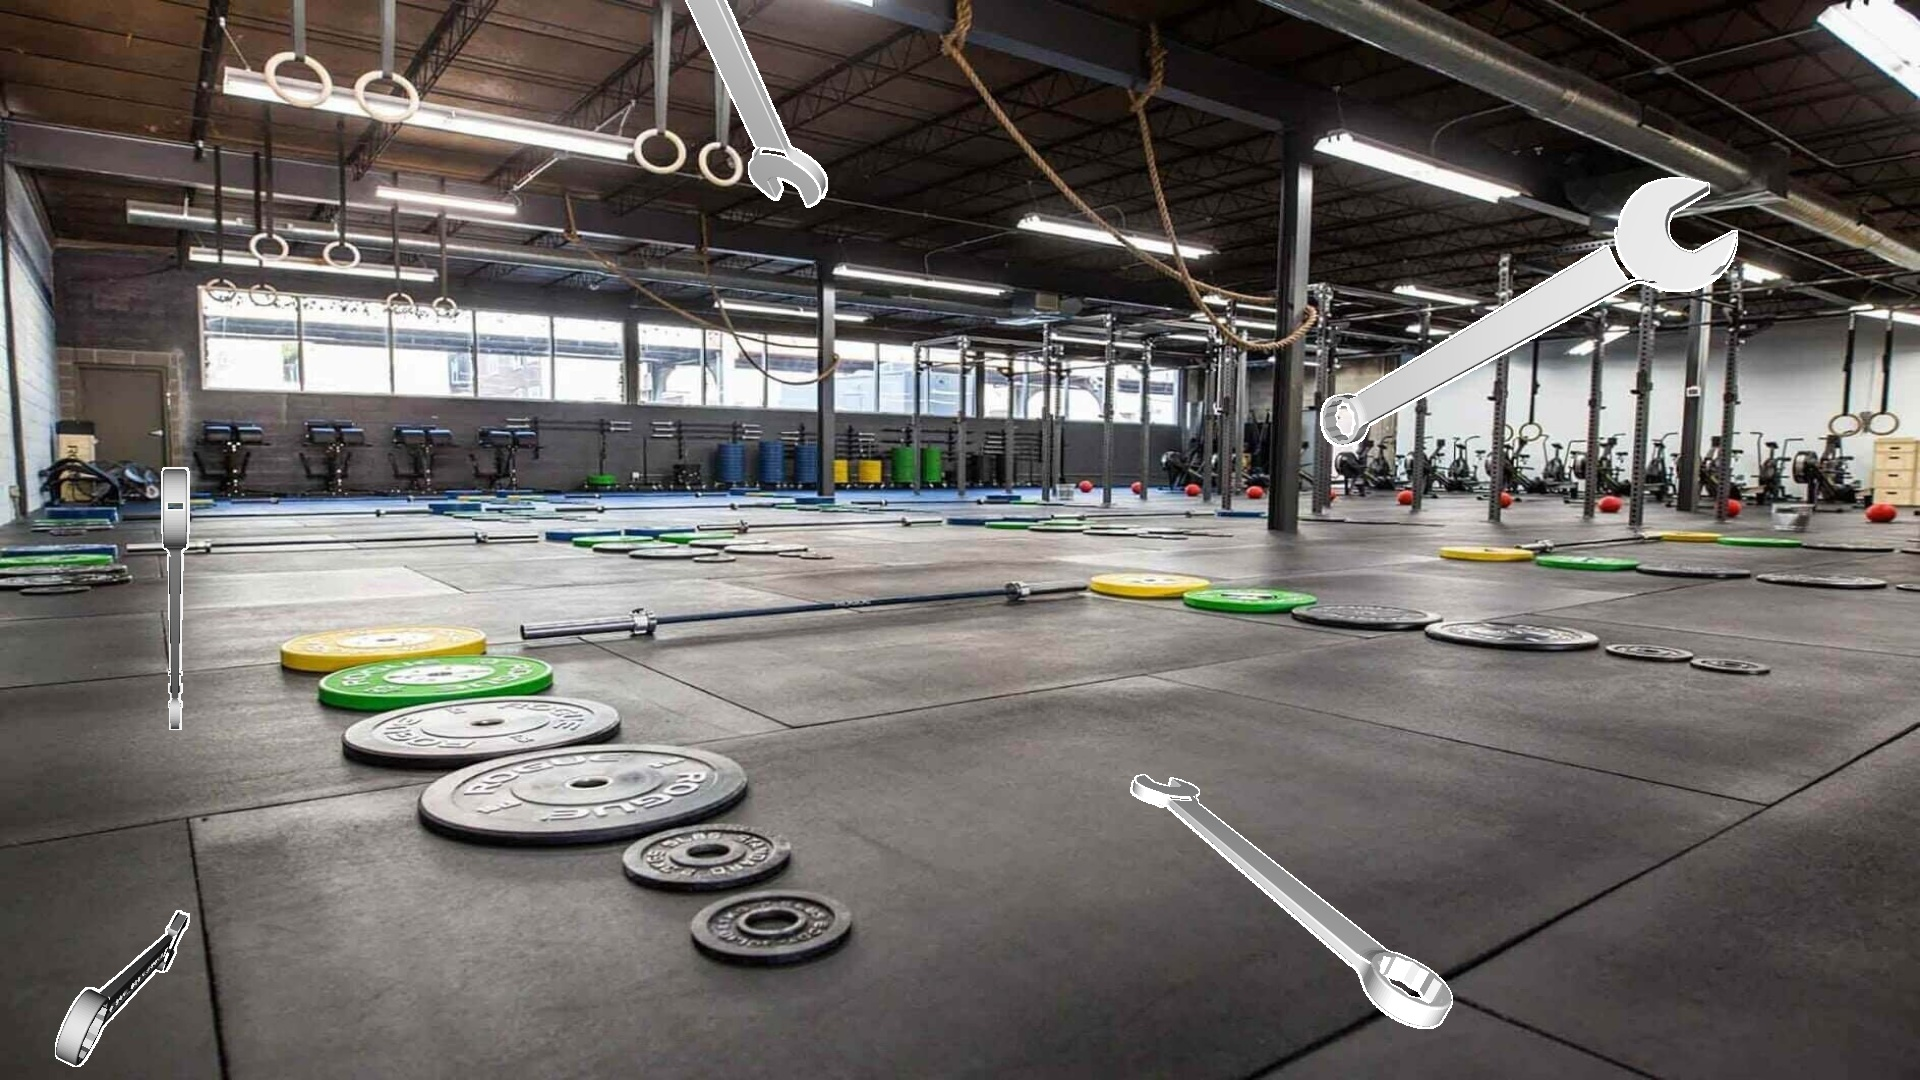Mixed Key: (1320, 177, 1737, 446), (1130, 774, 1452, 1029), (684, 0, 827, 207), (55, 910, 189, 1065), (161, 467, 189, 729)
